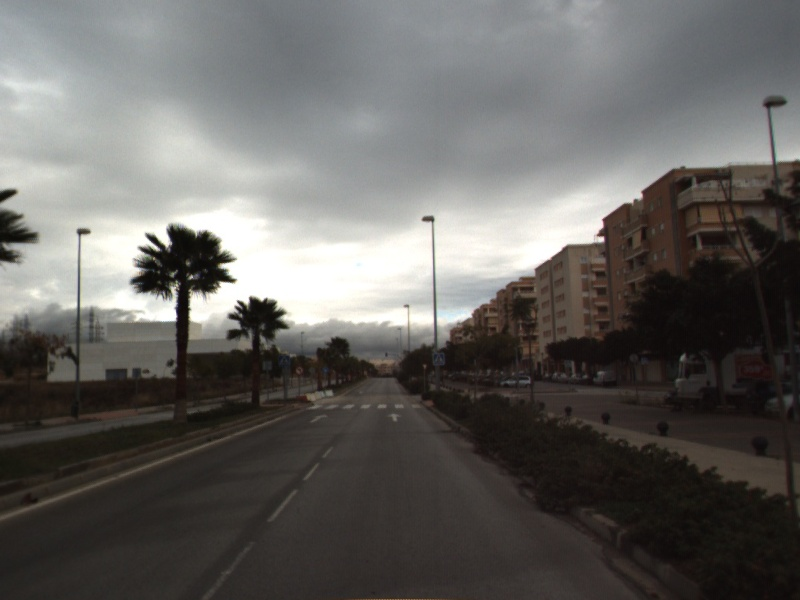STRAIGHT: (308, 412, 330, 424), (385, 411, 404, 424)
